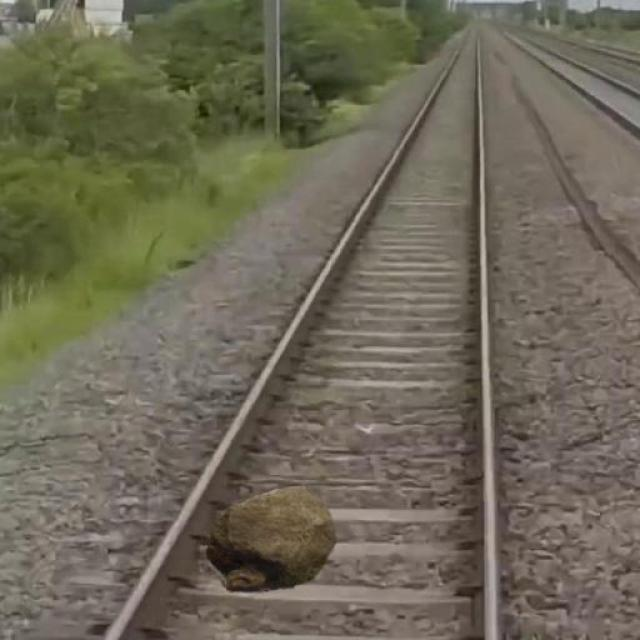Stone: (207, 489, 344, 592)
